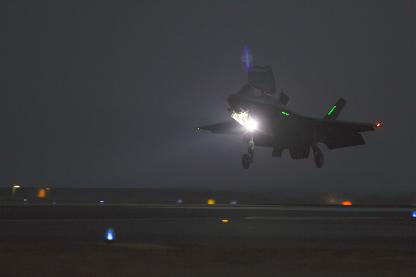F22: (194, 65, 384, 168)
